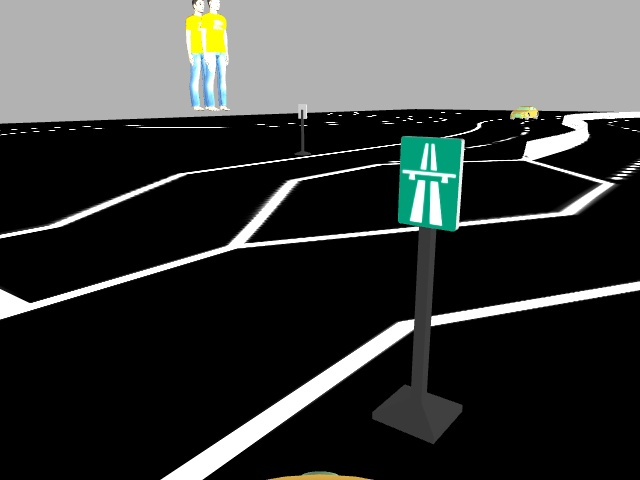HighwayEntrance: (394, 134, 462, 233)
